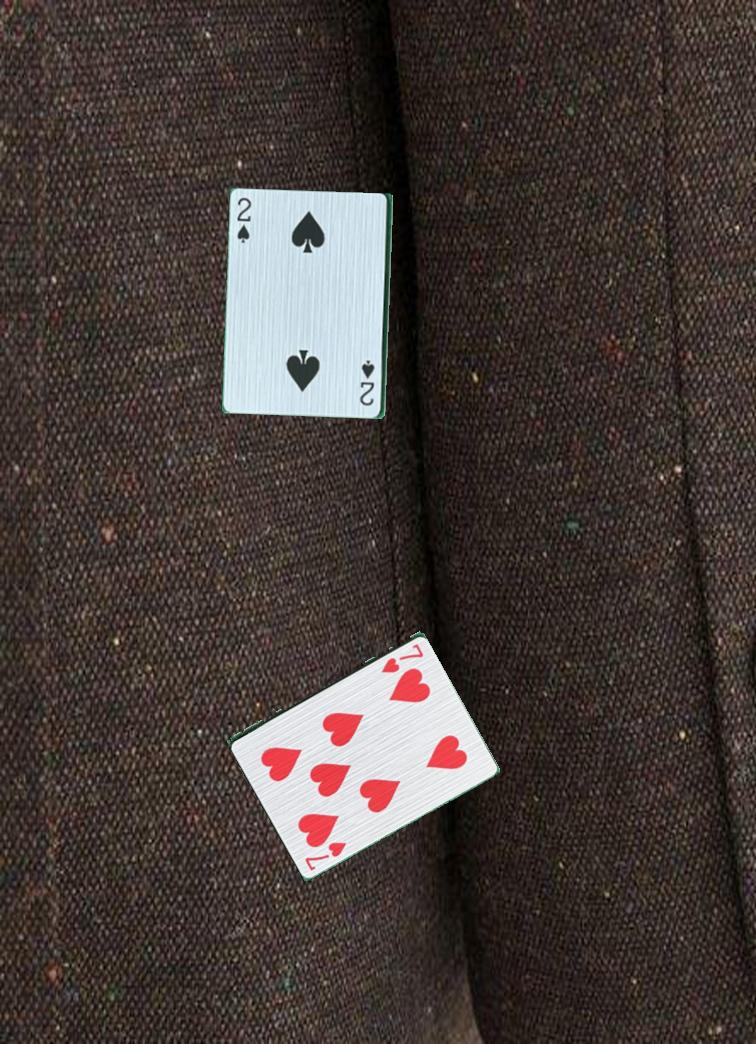2s: (234, 194, 255, 251), (359, 357, 378, 415)
7h: (297, 830, 350, 874), (378, 639, 426, 676)
